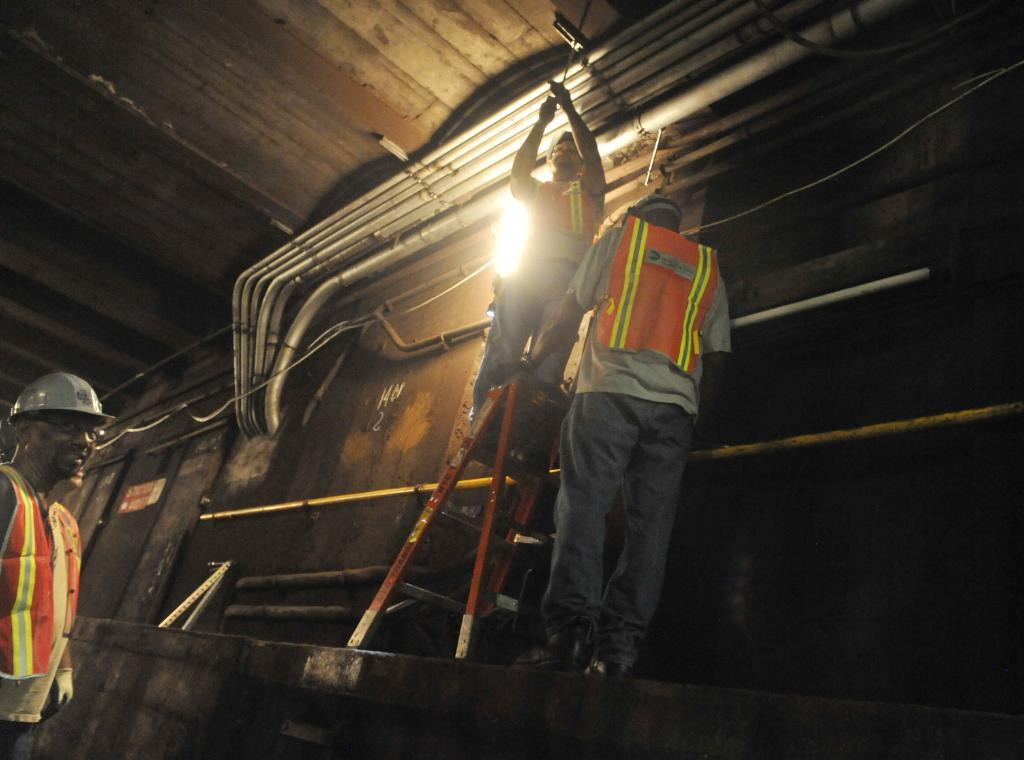helmet: (7, 372, 117, 475), (622, 193, 683, 239)
nohelmet: (551, 130, 585, 178)
